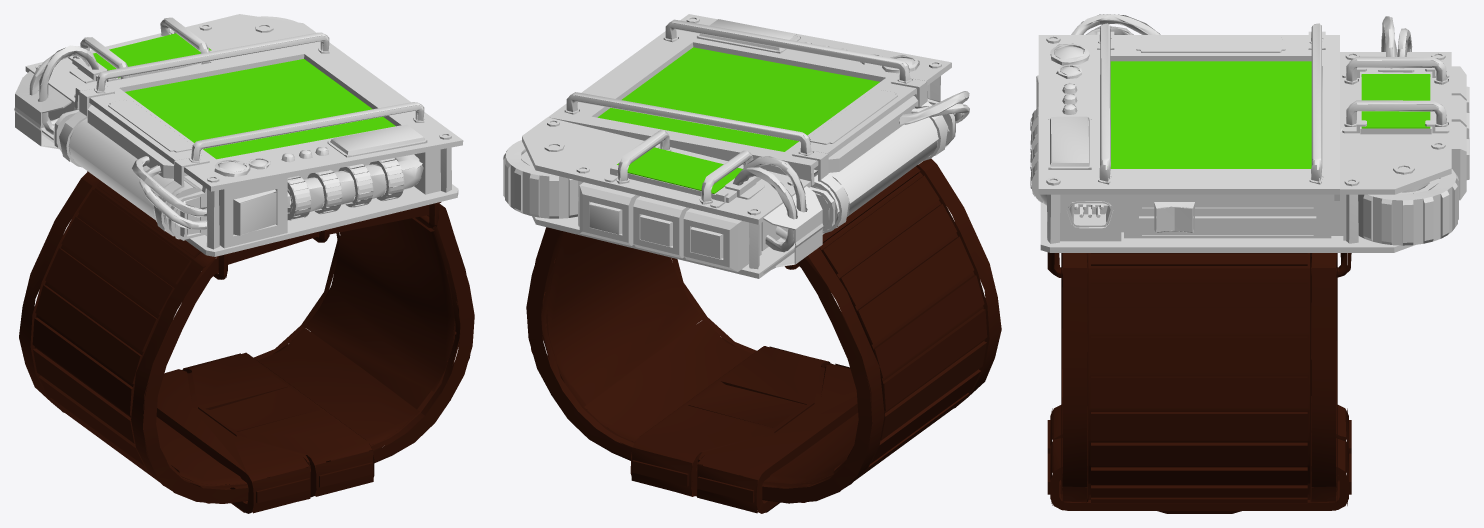
The model's file is Onmitrix.fbx.
3 views of the same model, side by side, from view 1: azimuth 30°, elevation 25°; view 2: azimuth 150°, elevation 25°; view 3: azimuth 270°, elevation 25° (orthographic). The views are drawn at different scales.
Parts seen in each view (by area): view 1: BezierCurve.003, Cube.003, Cube.005; view 2: BezierCurve.003, Cube.003, Cube.005; view 3: BezierCurve.003, Cube.003, Cube.005.
Part boxes in pixels (box(x1,y1,x2,y2)): BezierCurve.003: box(14, 14, 474, 513); Cube.003: box(125, 59, 395, 159); Cube.005: box(93, 33, 211, 78); BezierCurve.003: box(503, 14, 1001, 513); Cube.003: box(597, 47, 879, 151); Cube.005: box(617, 147, 742, 193); BezierCurve.003: box(1030, 14, 1469, 513); Cube.003: box(1110, 61, 1311, 168); Cube.005: box(1361, 74, 1430, 128).
Size of the model in its own units: 1124 by 1207 by 1154.
